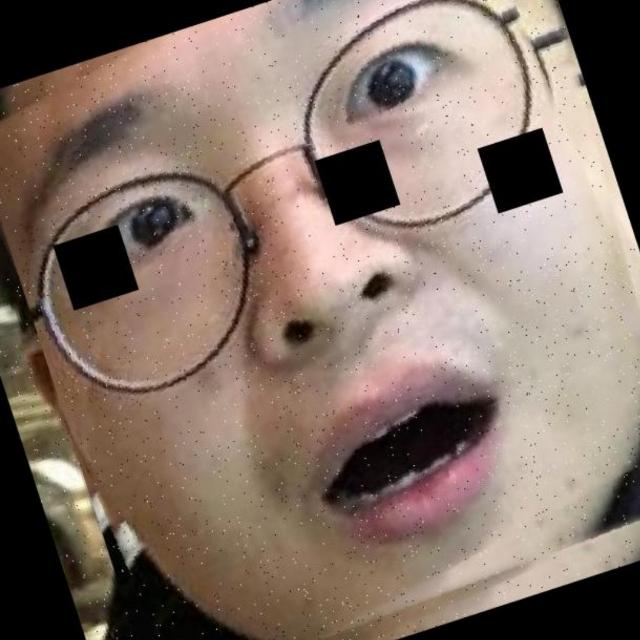Surprised: (16, 17, 605, 595)
